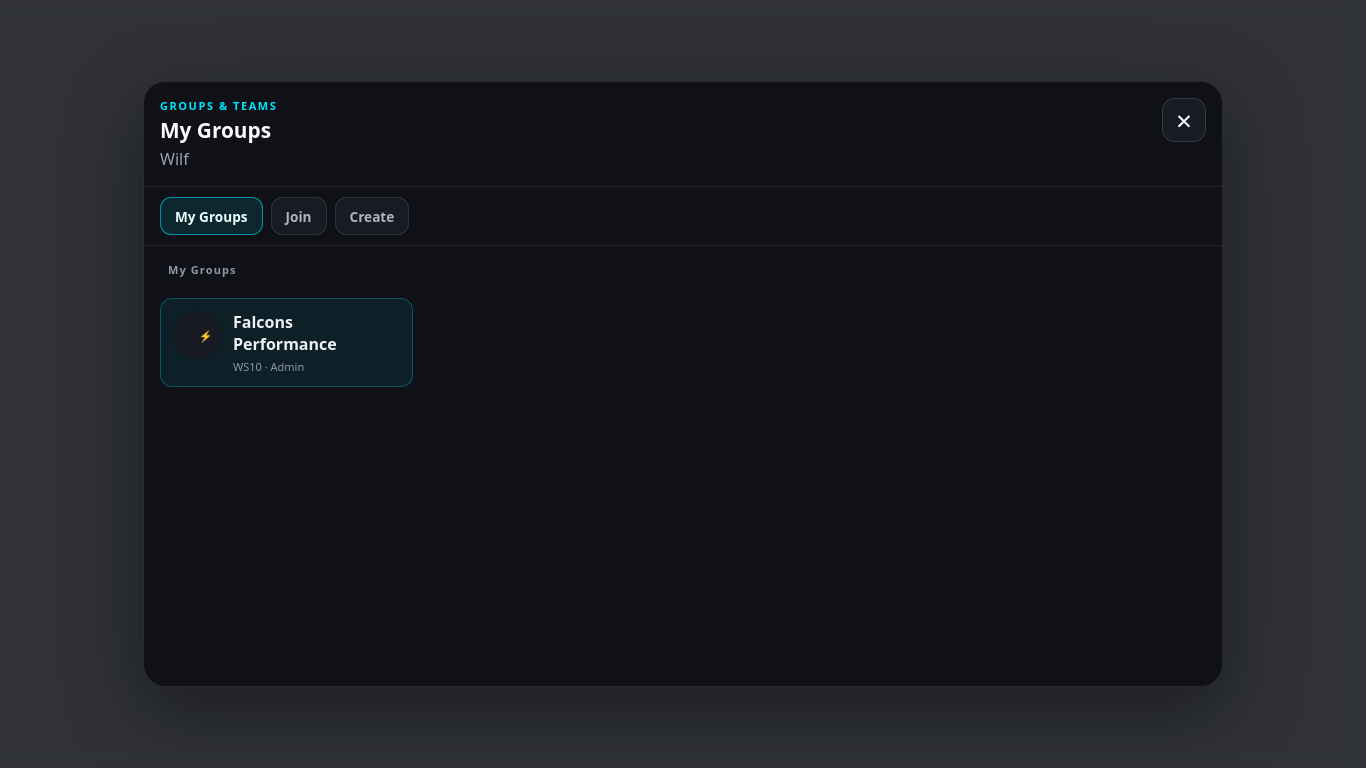
Test: Group Hub scalable onboarding › keeps member operations behind a Manage disclosure
Click the button "⚡ Falcons Performance WS10 · Admin".
click(286, 342)  # box [160,298,412,387]
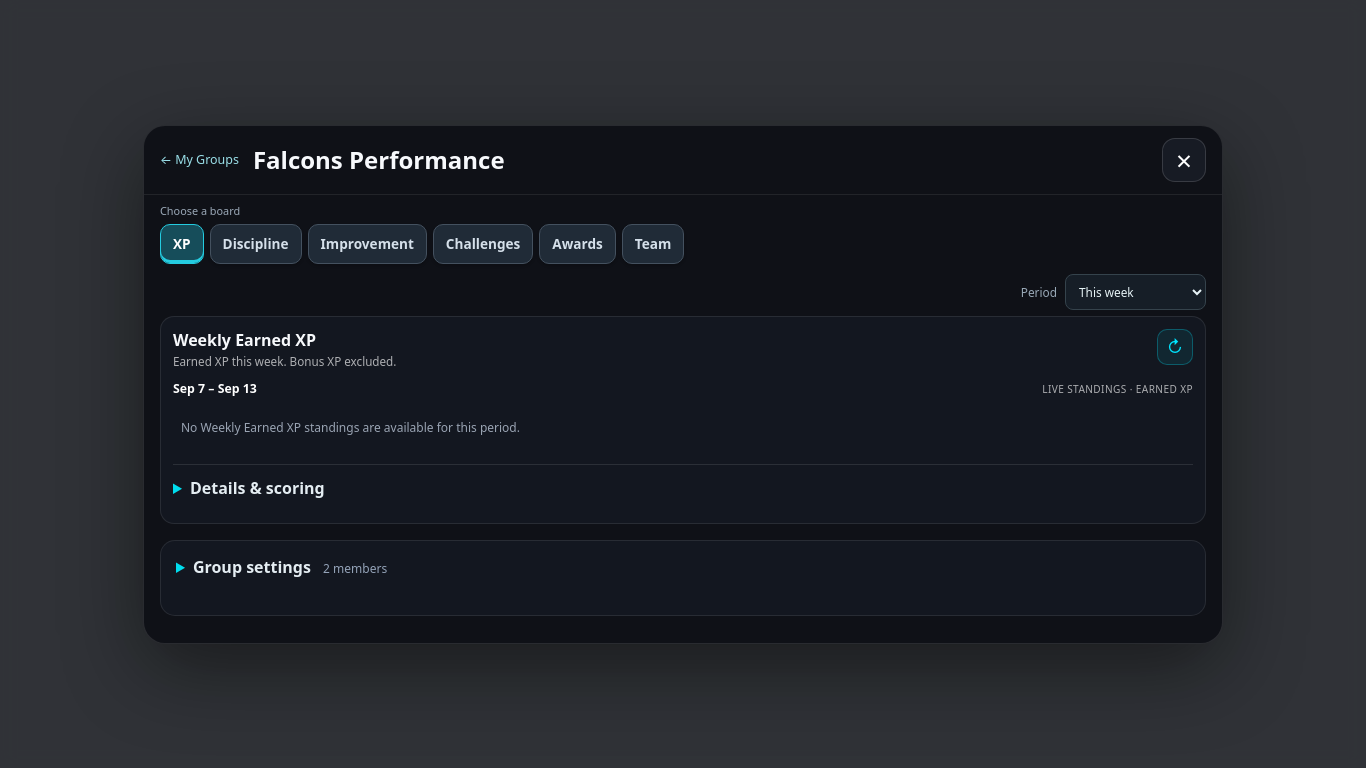
Click the heading "Group settings 2 members".
click(290, 567)  # box [193,556,387,578]
(page scrolled)
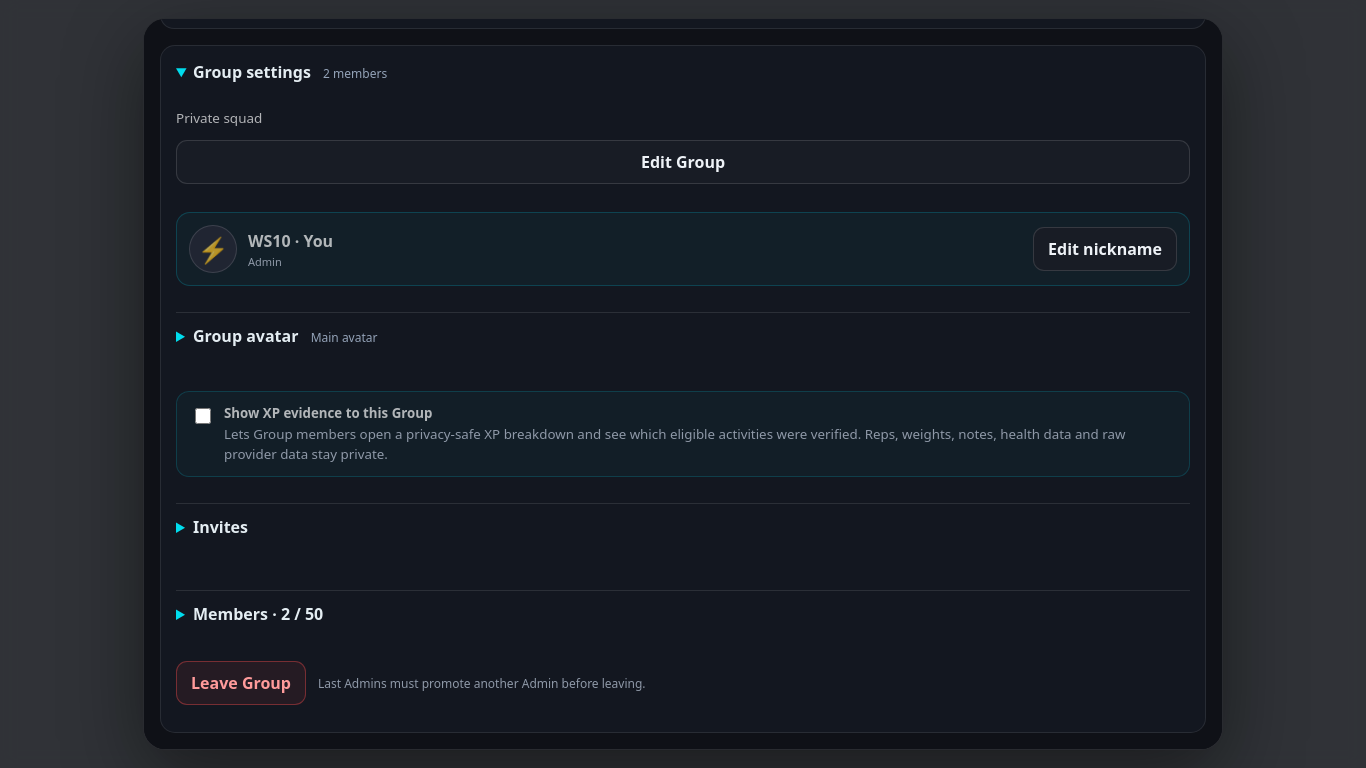
Click the heading "Invites".
click(220, 527)  # box [193,516,248,538]
(page scrolled)
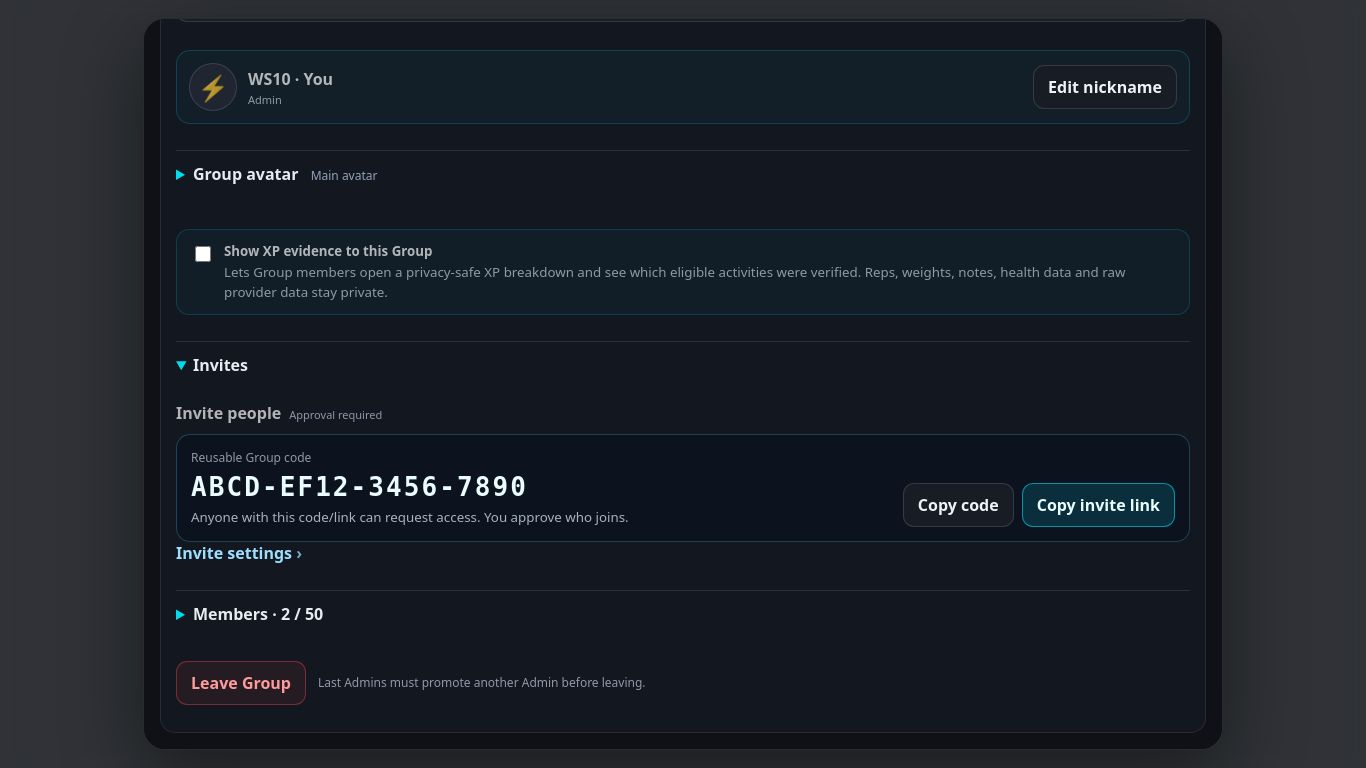
Click the heading "Members · 2 / 50".
click(258, 614)  # box [193,603,323,625]
(page scrolled)
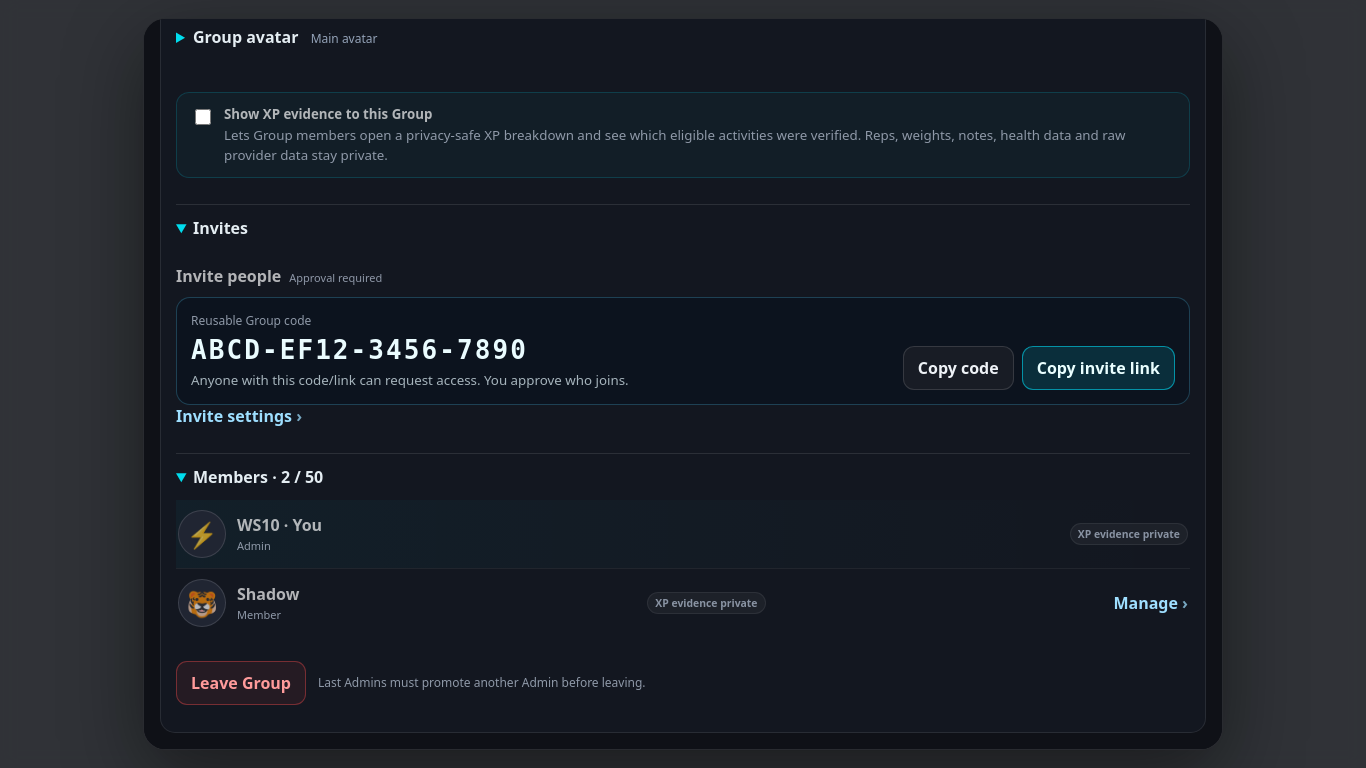
Now the text "Shadow" is shown, box [237,583,299,605]
Now the heading "Manage" is shown, box [1113,592,1188,614]
